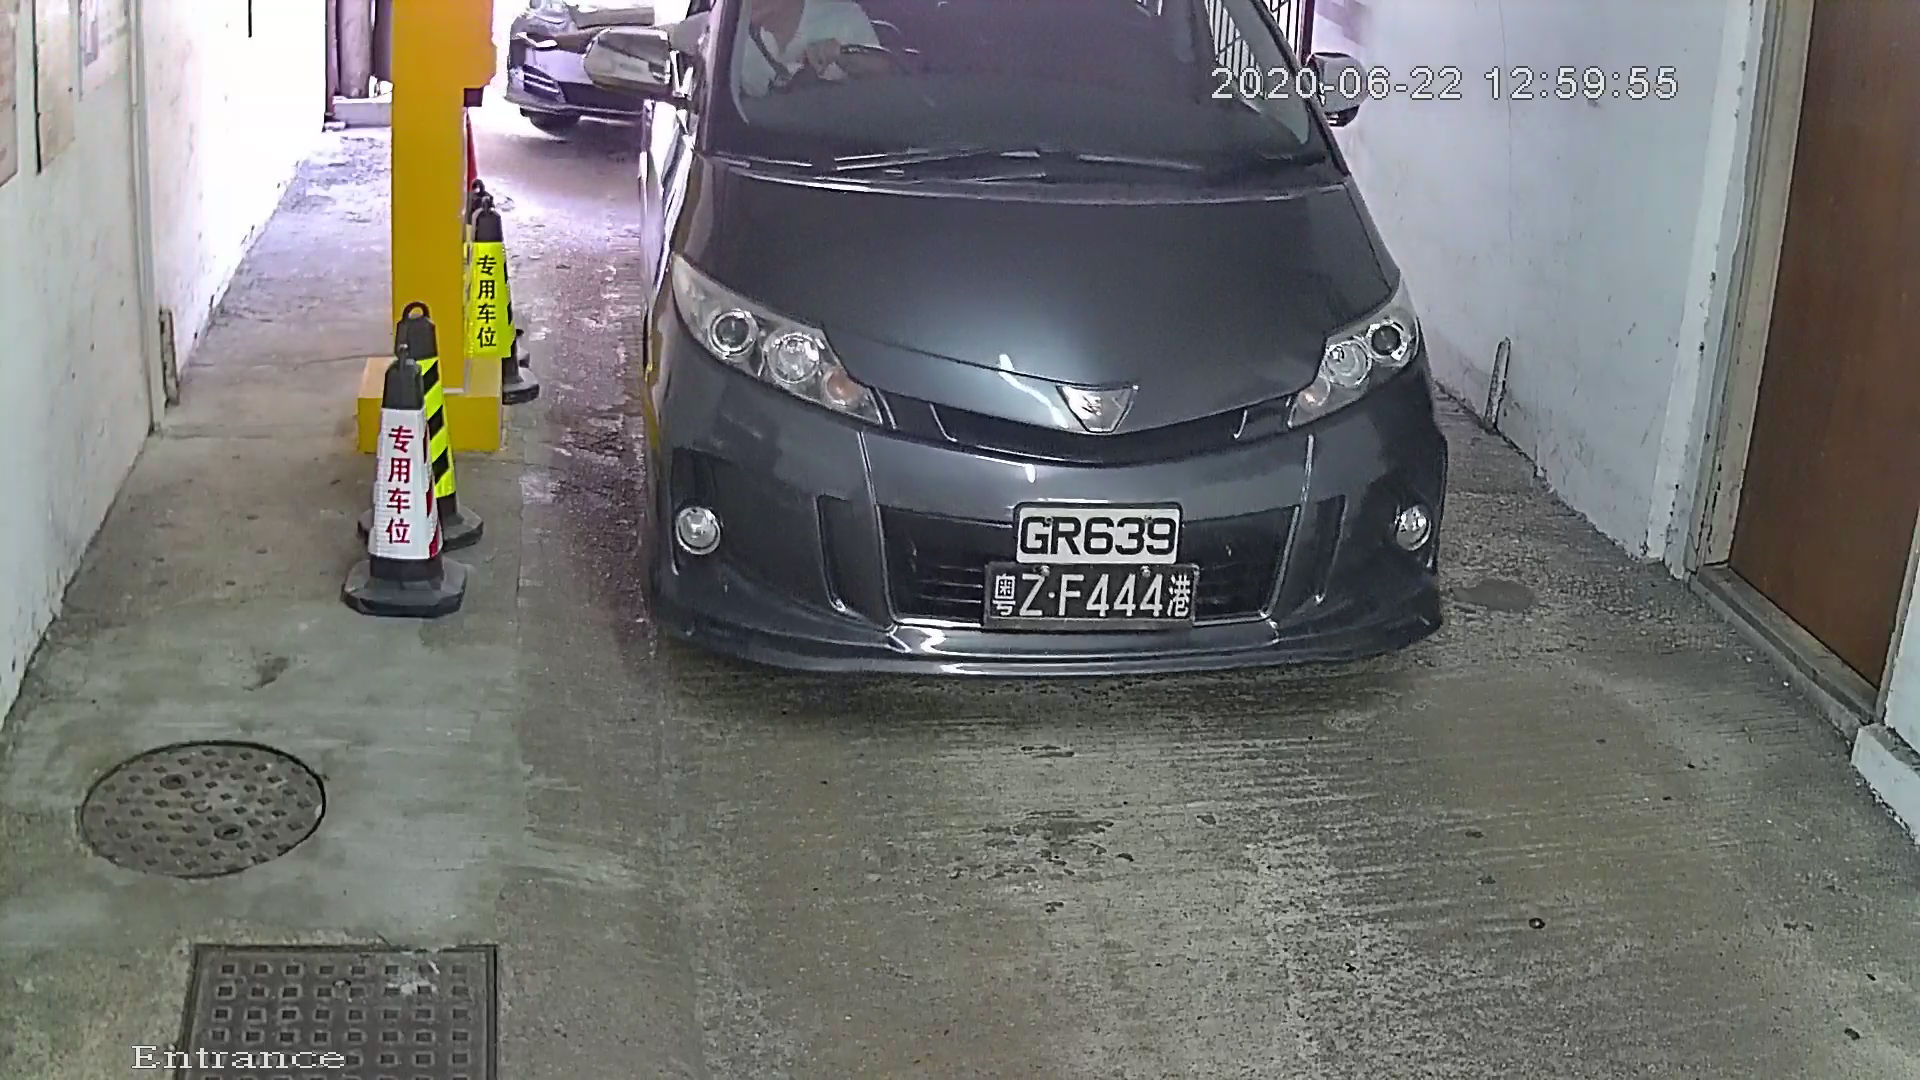privatecar: (574, 3, 1511, 756)
